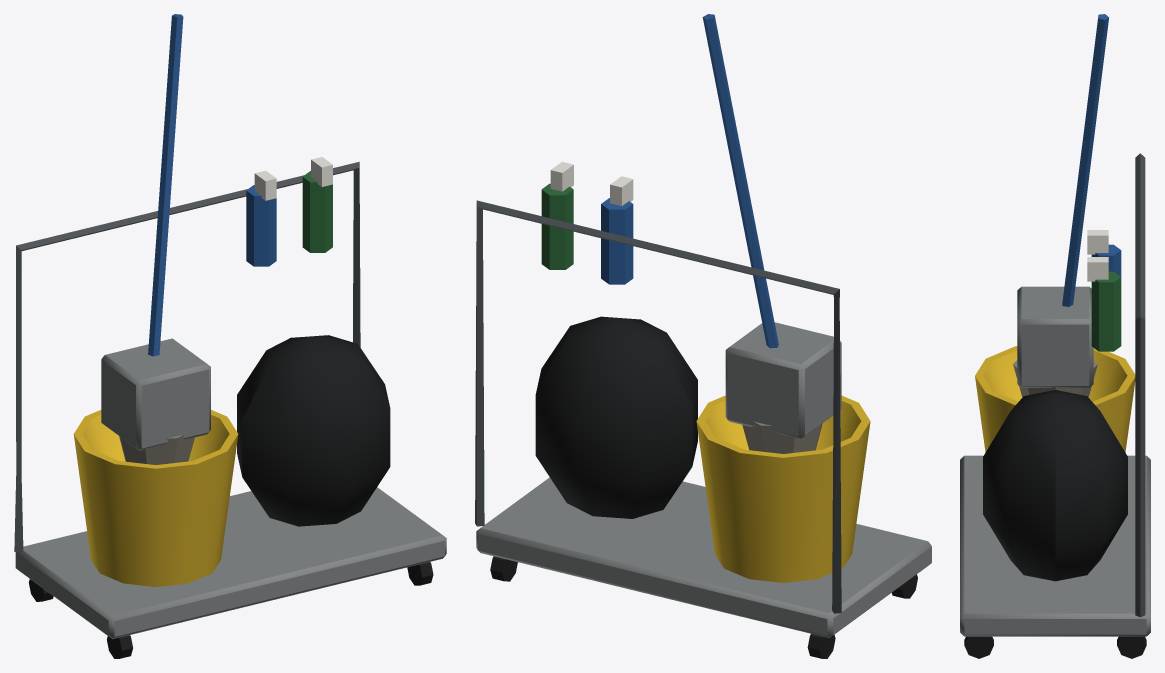
File: cleaning_cart.glb
3 views of the same model, side by side, from view 1: azimuth 30°, elevation 25°; view 2: azimuth 150°, elevation 25°; view 3: azimuth 270°, elevation 25° (orthographic). The views are drawn at different scales.
Parts seen in each view (by area): view 1: JanitorCart; view 2: JanitorCart; view 3: JanitorCart.
Boxes of the visible parts, <box> form: JanitorCart: <box>14,14,446,658</box>; JanitorCart: <box>475,14,931,658</box>; JanitorCart: <box>960,14,1150,658</box>.
Size of the model in its own units: 0.924 by 1.44 by 0.45.
